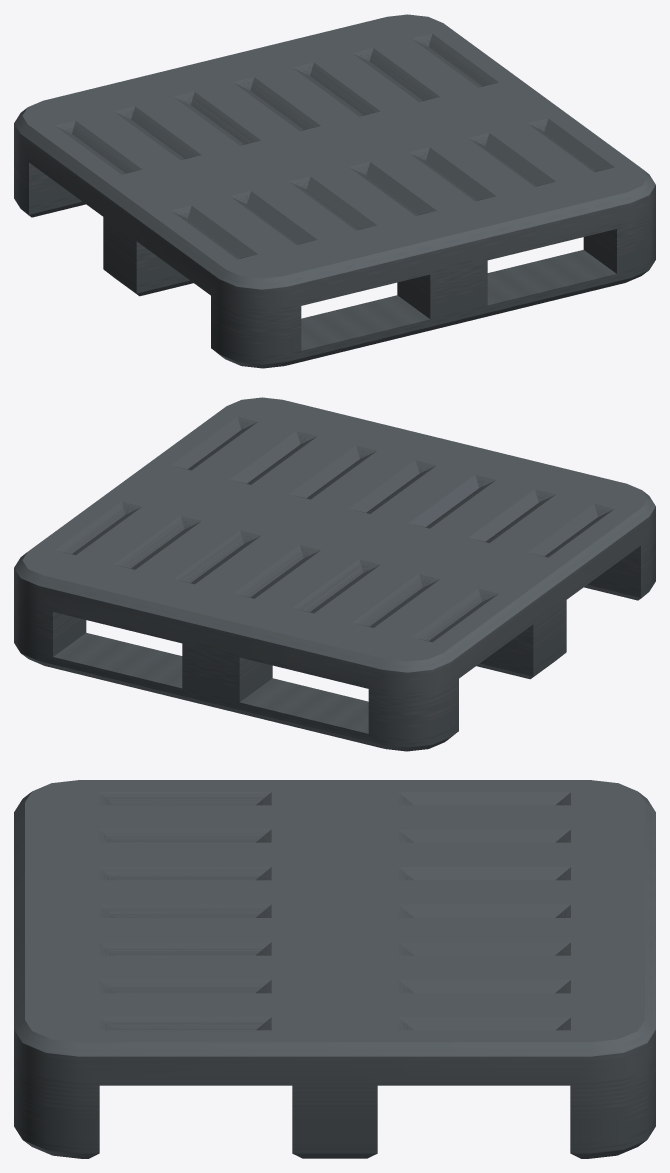
Rendered from Pallet_Plastic_Grey.gltf.
3 views of the same model, one above another, from view 1: azimuth 30°, elevation 25°; view 2: azimuth 150°, elevation 25°; view 3: azimuth 270°, elevation 25° (orthographic). The views are drawn at different scales.
Visible parts, largest first — view 1: Pallet_Plastic_Grey; view 2: Pallet_Plastic_Grey; view 3: Pallet_Plastic_Grey.
Boxes of the visible parts, box(x1,y1,x2,y2) form: Pallet_Plastic_Grey: box(14, 14, 655, 368); Pallet_Plastic_Grey: box(14, 397, 655, 751); Pallet_Plastic_Grey: box(14, 780, 655, 1158).
Size of the model in its own units: 1.5 by 0.3 by 1.5.
Materials: 1 (1 with a texture image).
